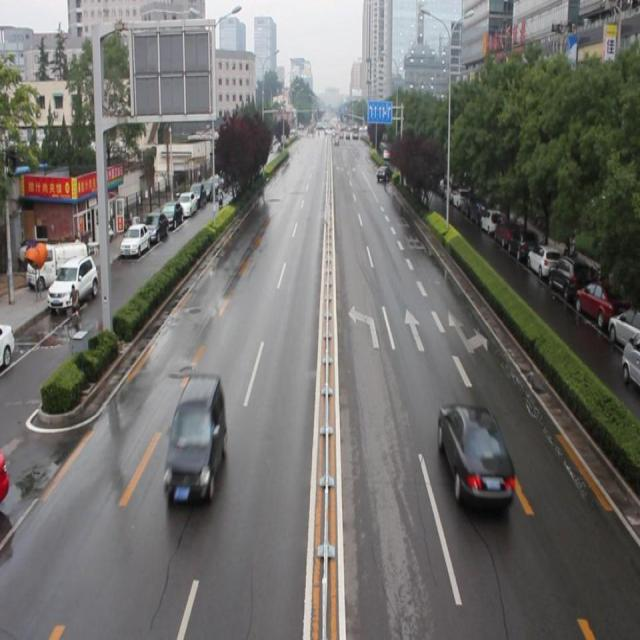car: (436, 403, 514, 511), (376, 163, 392, 182)
truck: (162, 373, 227, 504)
